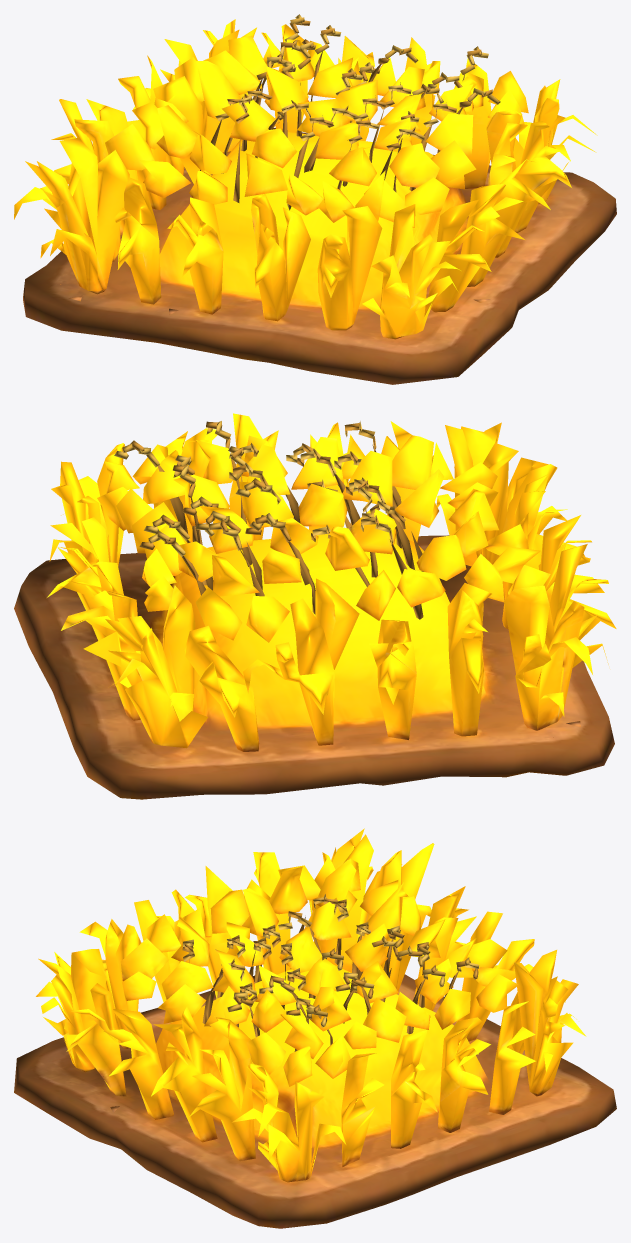
The picture shows the model from 3 angles, top to bottom: view 1: azimuth 30°, elevation 25°; view 2: azimuth 150°, elevation 25°; view 3: azimuth 270°, elevation 25°; orthographic projection. The views are drawn at different scales.
Visible parts, largest first — view 1: tripo_node_18430081-c652-455a-967a-1061a99238d2, 외형 세부; view 2: tripo_node_18430081-c652-455a-967a-1061a99238d2, 외형 세부; view 3: tripo_node_18430081-c652-455a-967a-1061a99238d2, 외형 세부.
Part boxes in pixels (left/top/right/bottom): tripo_node_18430081-c652-455a-967a-1061a99238d2: left=14, top=19, right=616, bottom=384; 외형 세부: left=200, top=14, right=500, bottom=210; tripo_node_18430081-c652-455a-967a-1061a99238d2: left=14, top=413, right=616, bottom=799; 외형 세부: left=114, top=421, right=423, bottom=619; tripo_node_18430081-c652-455a-967a-1061a99238d2: left=14, top=828, right=616, bottom=1228; 외형 세부: left=182, top=894, right=478, bottom=1051.
Bounding box in the file's own units: 2.65 × 0.863 × 2.57.
Materials: 2 (1 with a texture image).
